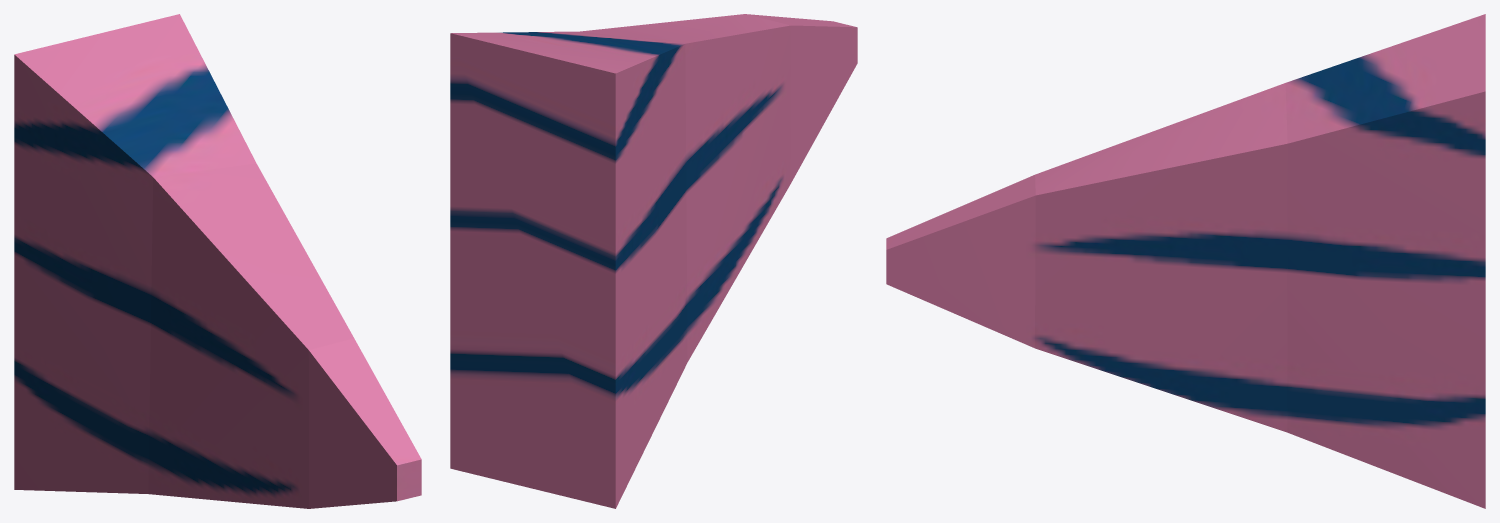
Rendered from Fish8_2.dae.
The picture shows the model from 3 angles, left to right: view 1: azimuth 30°, elevation 25°; view 2: azimuth 150°, elevation 25°; view 3: azimuth 270°, elevation 25°; orthographic projection. The views are drawn at different scales.
Parts seen in each view (by area): view 1: Cube_Cube_000; view 2: Cube_Cube_000; view 3: Cube_Cube_000.
Boxes of the visible parts, x1,y1,x2,y2 form: Cube_Cube_000: (14, 14, 421, 508); Cube_Cube_000: (450, 14, 857, 508); Cube_Cube_000: (886, 14, 1485, 508).
Bounding box in the file's own units: 0.6215 × 2.03 × 1.56.
2 materials, 2 textured.
